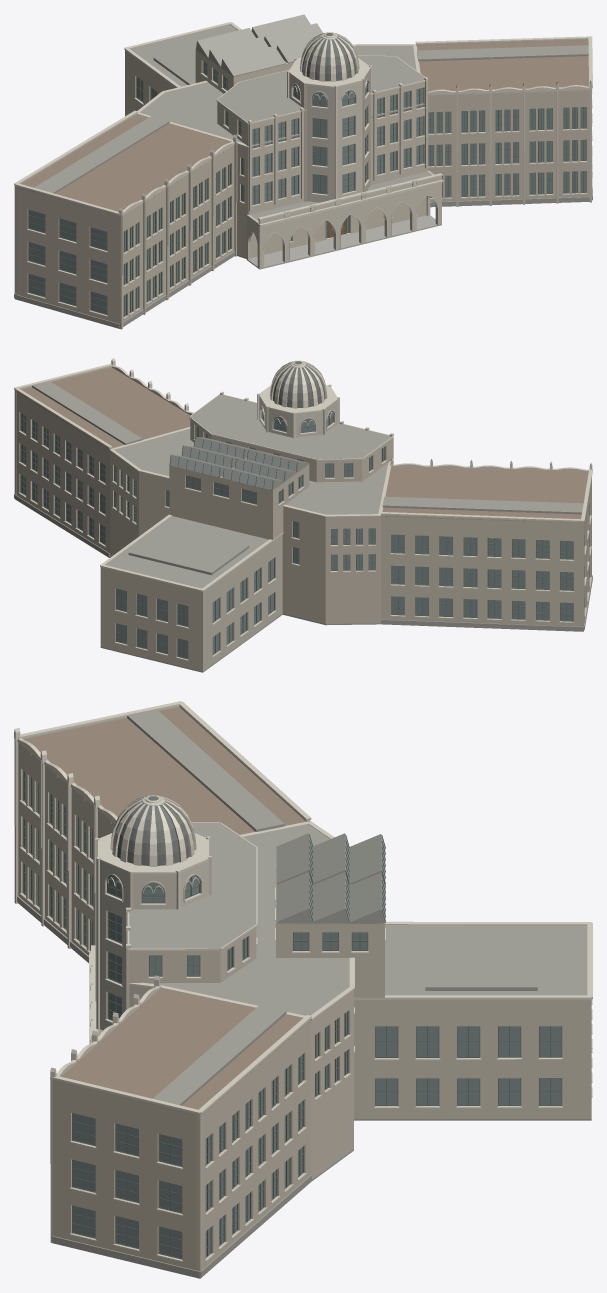
Rendered from hongkou-lester-institute-web.glb.
3 renders of one model, top to bottom at view 1: azimuth 30°, elevation 25°; view 2: azimuth 150°, elevation 25°; view 3: azimuth 270°, elevation 25°, orthographic. The views are drawn at different scales.
Parts seen in each view (by area): view 1: 雷氏德工学院（东长治路505号主楼）; view 2: 雷氏德工学院（东长治路505号主楼）; view 3: 雷氏德工学院（东长治路505号主楼）.
Boxes of the visible parts, bbox=[...] form: 雷氏德工学院（东长治路505号主楼）: bbox=[14, 14, 592, 329]; 雷氏德工学院（东长治路505号主楼）: bbox=[14, 358, 592, 672]; 雷氏德工学院（东长治路505号主楼）: bbox=[14, 701, 592, 1278].
Bounding box in the file's own units: 100 × 32.33 × 59.59.
